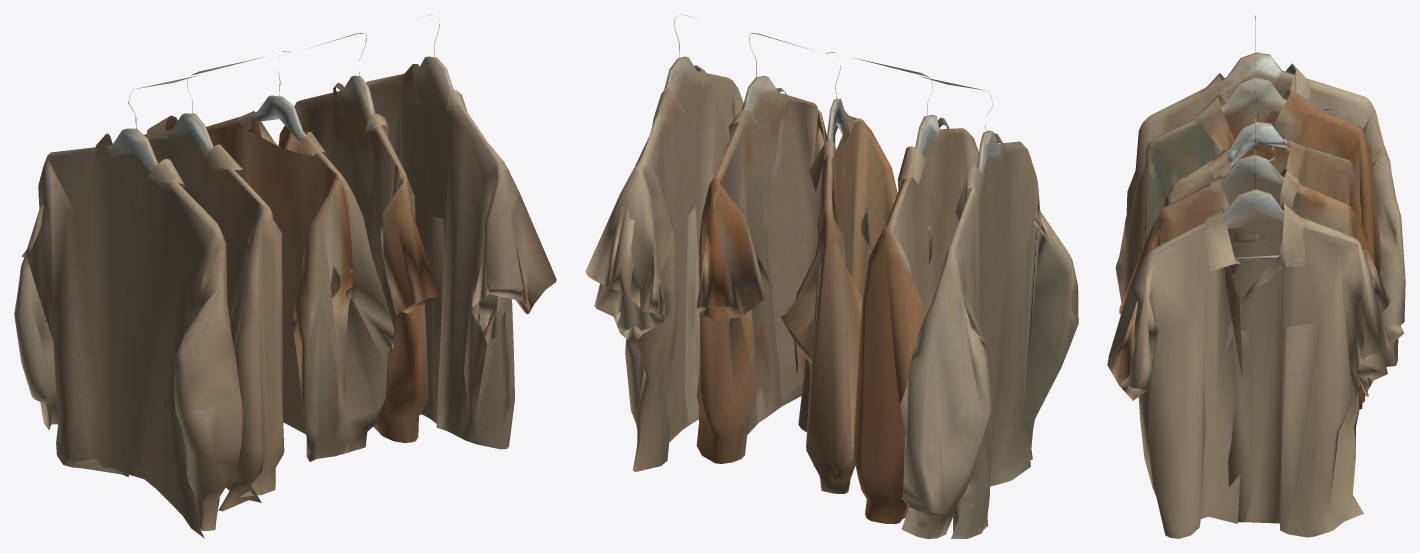
File: mall-garment-hanging-group.glb
The picture shows the model from 3 angles, left to right: view 1: azimuth 30°, elevation 25°; view 2: azimuth 150°, elevation 25°; view 3: azimuth 270°, elevation 25°; orthographic projection. The views are drawn at different scales.
Parts seen in each view (by area): view 1: garment-hanging-group; view 2: garment-hanging-group; view 3: garment-hanging-group.
Boxes of the visible parts, x1,y1,x2,y2 form: garment-hanging-group: (14,14,556,538); garment-hanging-group: (585,14,1078,538); garment-hanging-group: (1107,14,1405,538).
Size of the model in its own units: 0.8912 by 0.85 by 0.5949.
1 material, 1 textured.
